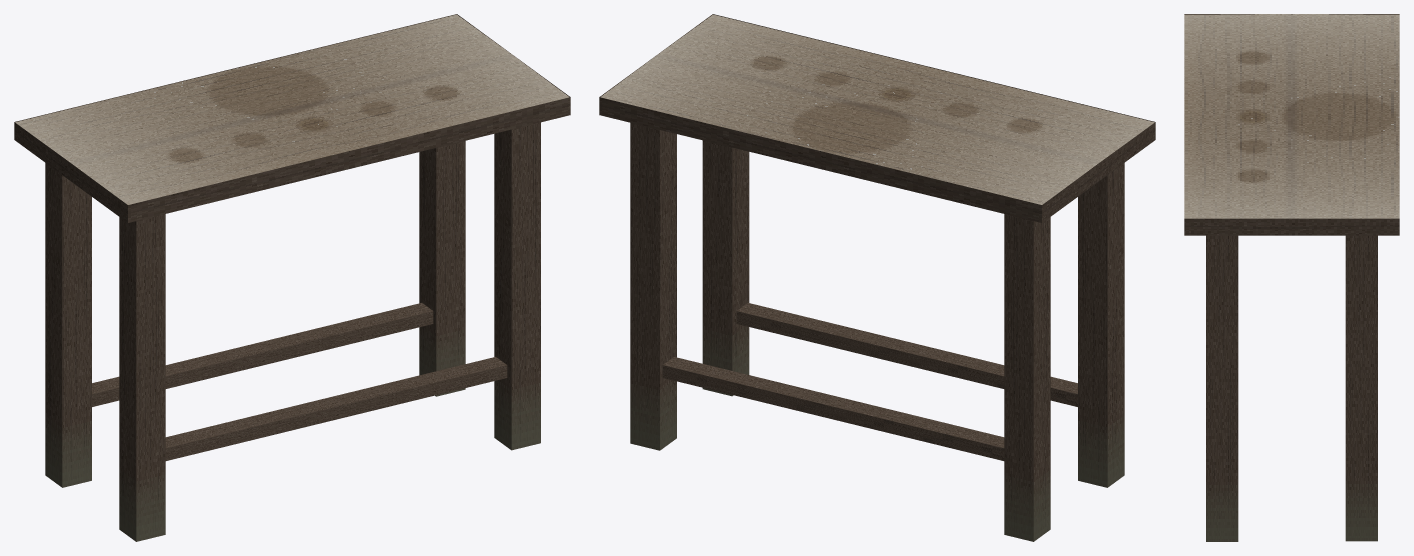
Rendered from BanThoHam.glb.
3 renders of one model, left to right at view 1: azimuth 30°, elevation 25°; view 2: azimuth 150°, elevation 25°; view 3: azimuth 270°, elevation 25°, orthographic. The views are drawn at different scales.
Visible parts, largest first — view 1: BanThoHam; view 2: BanThoHam; view 3: BanThoHam.
Boxes of the visible parts, <box> form: BanThoHam: <box>14,14,570,541</box>; BanThoHam: <box>599,14,1155,541</box>; BanThoHam: <box>1184,14,1399,541</box>.
Size of the model in its own units: 0.9 by 0.68 by 0.4.
1 material, 1 textured.
